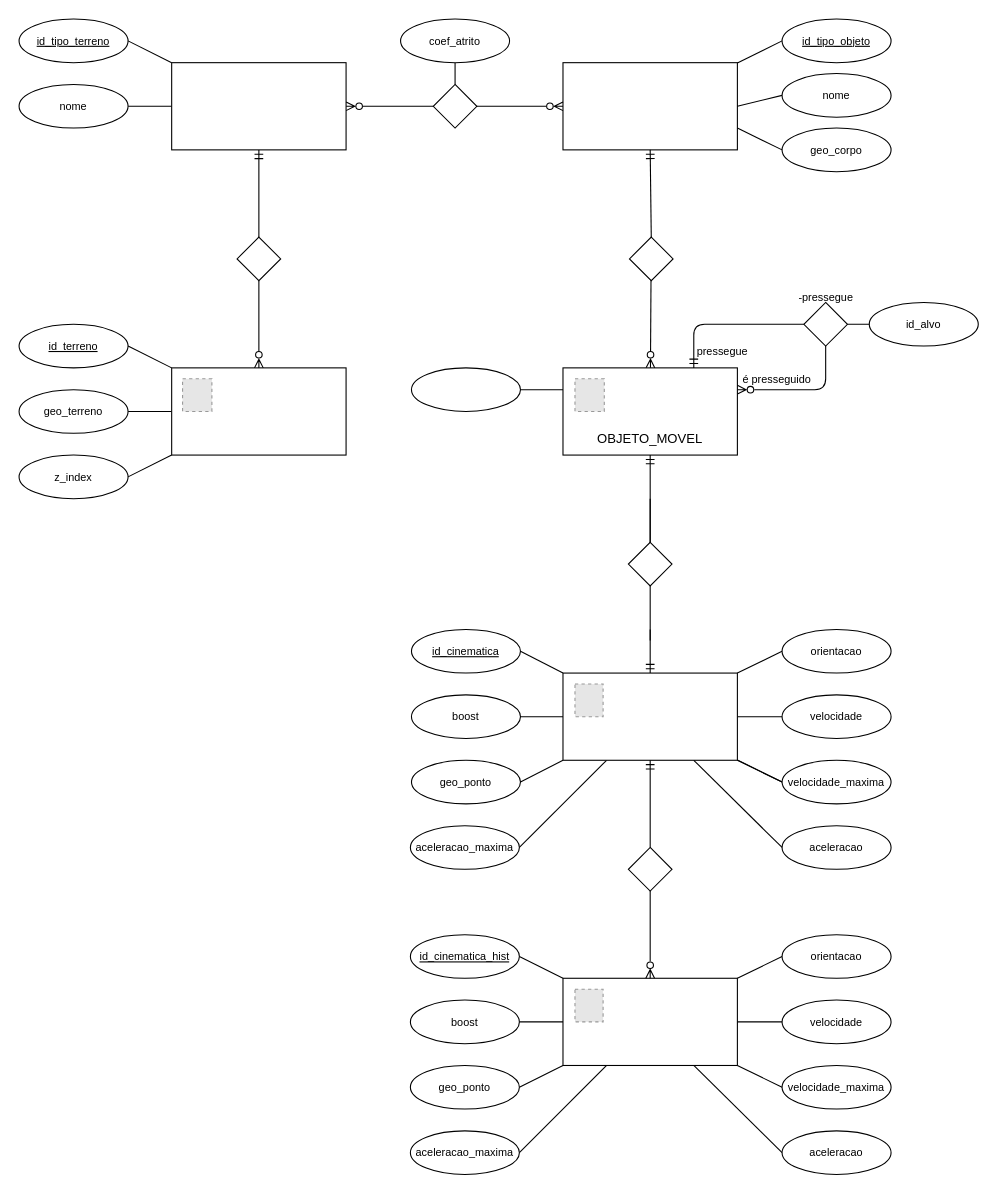
Image size: 997x1194. Some labels were removed from this diagram. Grey dashed boxes stand in for pictures. The shapes that lost their labels are listed below. From the top down, each one's box as (x1, y1, x2, y2) in pixels, then its label:
(171, 62, 346, 150): TIPO_TERRENO
(562, 62, 737, 150): TIPO_OBJETO_MOVEL
(410, 367, 520, 411): id_objeto_movel
(171, 367, 346, 455): TERRENO
(562, 672, 737, 760): CINEMATICA
(562, 977, 737, 1065): CINEMATICA_HIST
